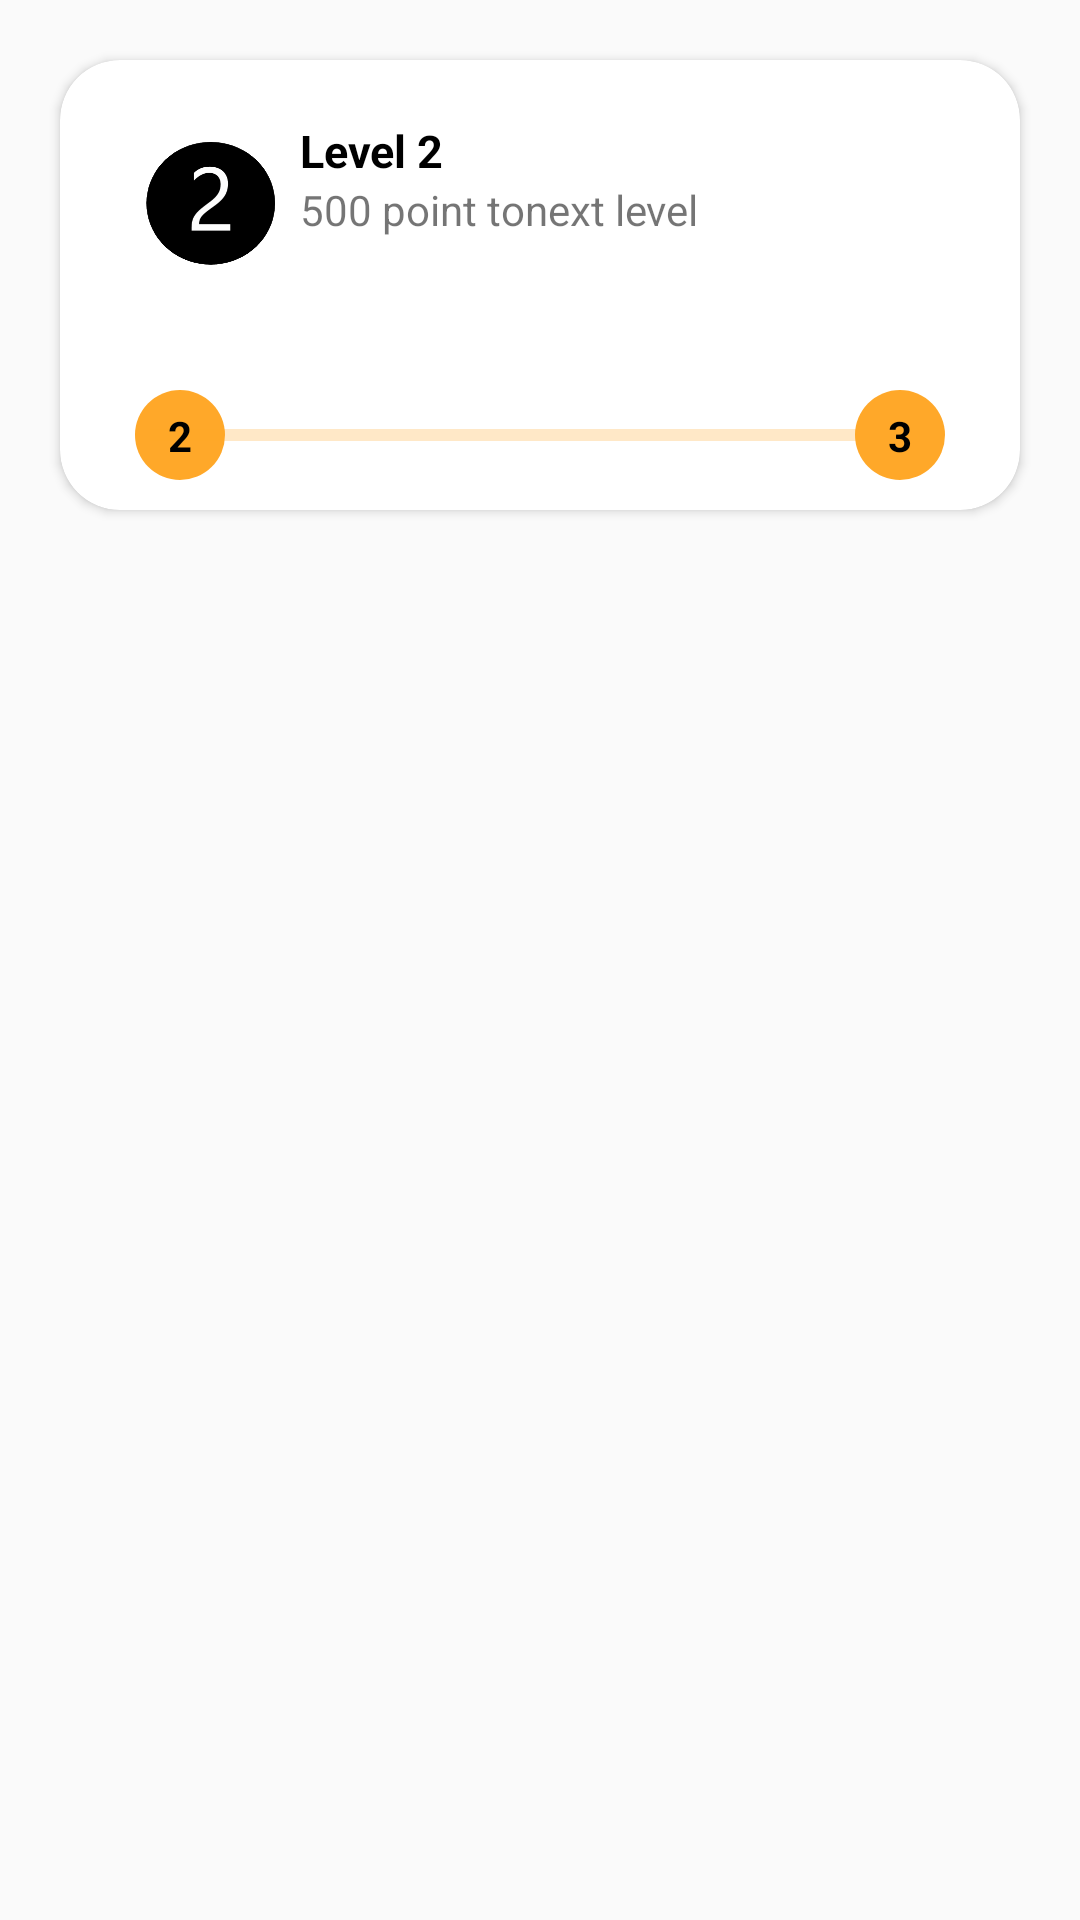

Point at icon controls on the screen. Image size 1080px x 1920px, points as point (x, y).
niveau: point (210, 203)
